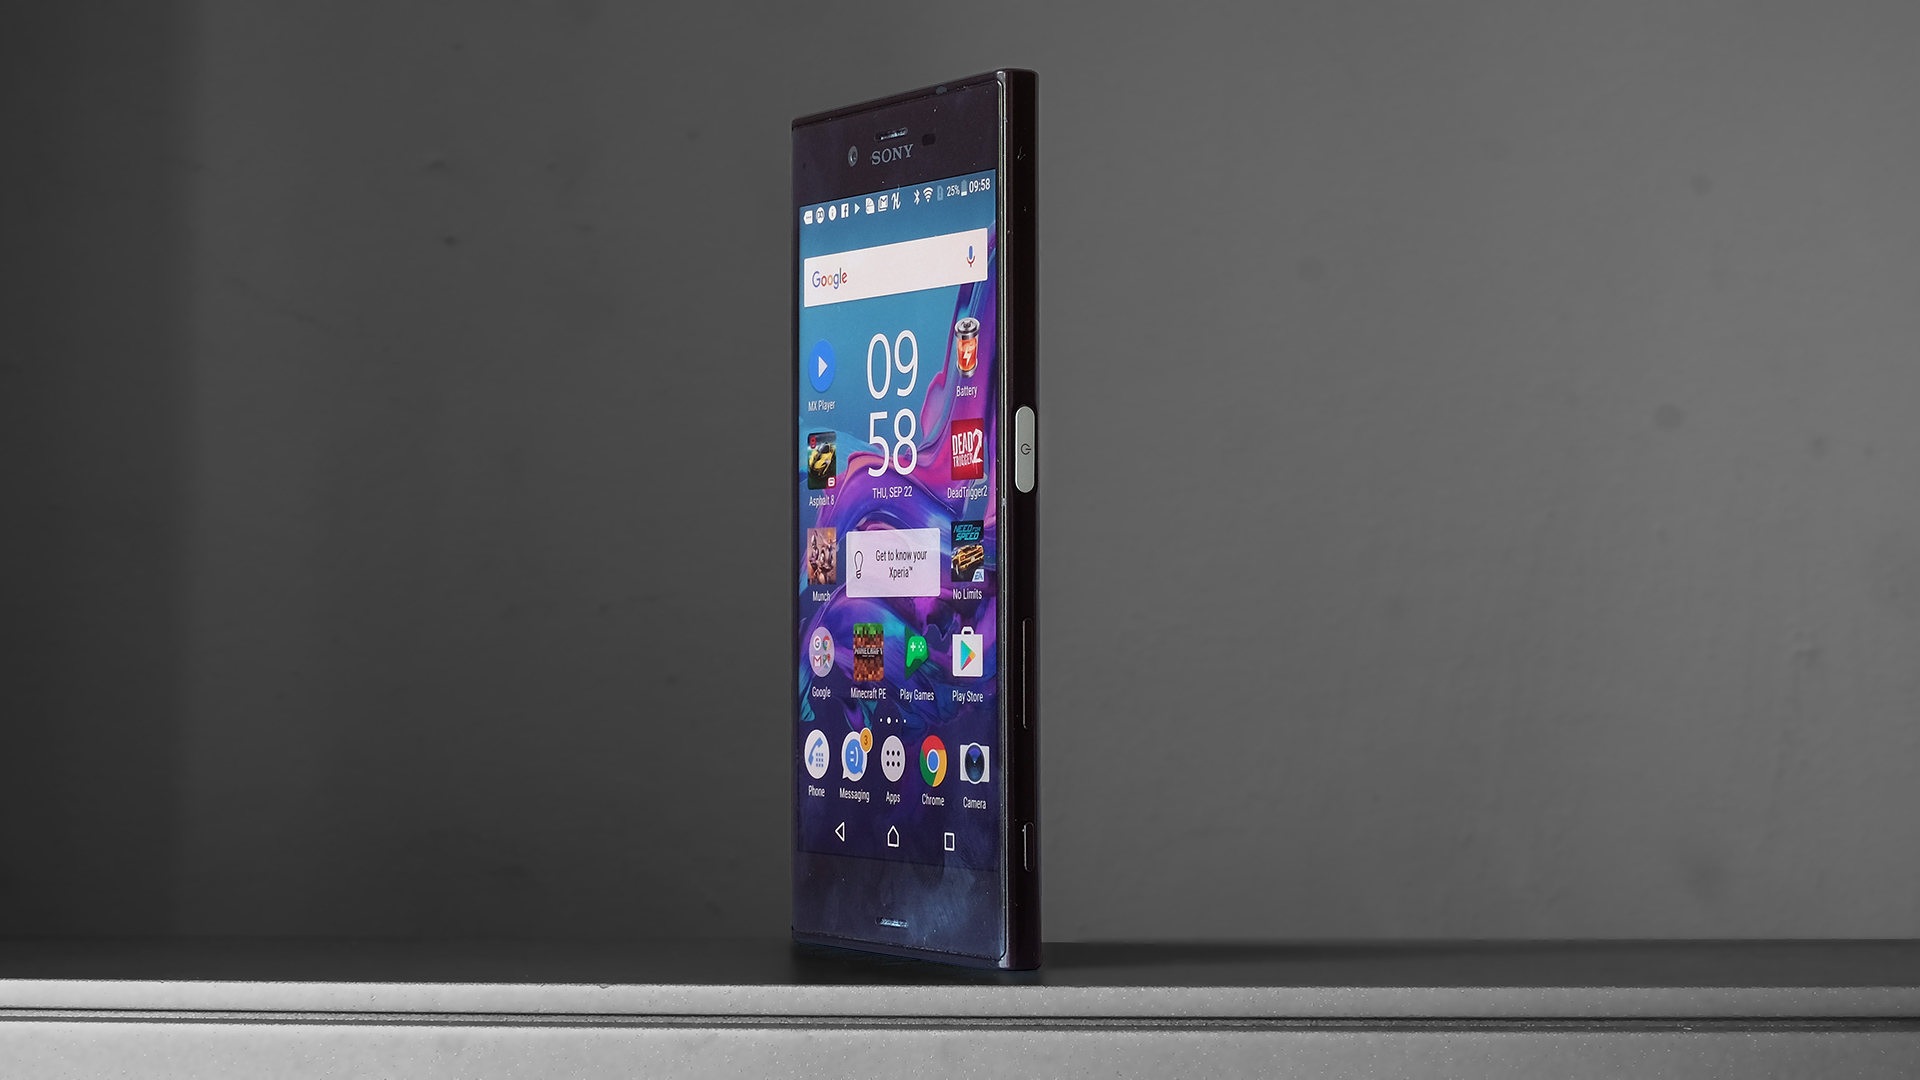smartphone: (789, 69, 1046, 973)
